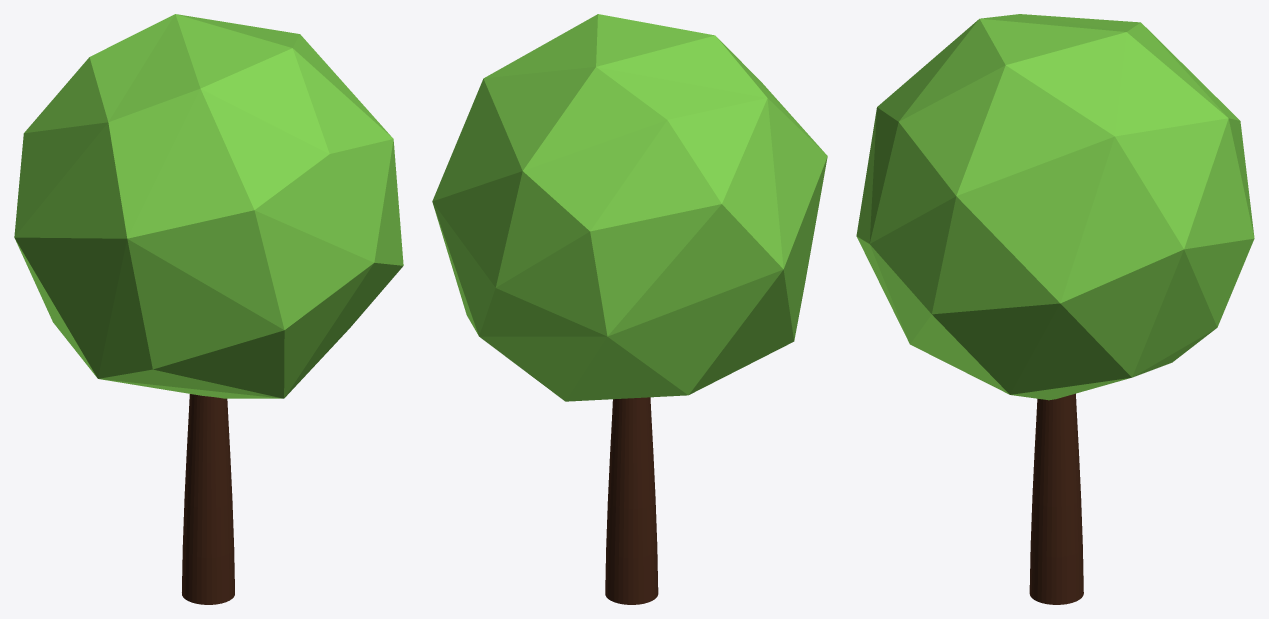
File: Tree by MaverickFX - s6yZuyU2y5.glb
The picture shows the model from 3 angles, left to right: view 1: azimuth 30°, elevation 25°; view 2: azimuth 150°, elevation 25°; view 3: azimuth 270°, elevation 25°; orthographic projection.
Parts seen in each view (by area): view 1: \TREE; view 2: \TREE; view 3: \TREE.
Boxes of the visible parts, x1,y1,x2,y2 form: \TREE: (14, 14, 403, 604); \TREE: (432, 14, 827, 604); \TREE: (856, 14, 1254, 604).
Bounding box in the file's own units: 2.07 × 3.13 × 2.01.
